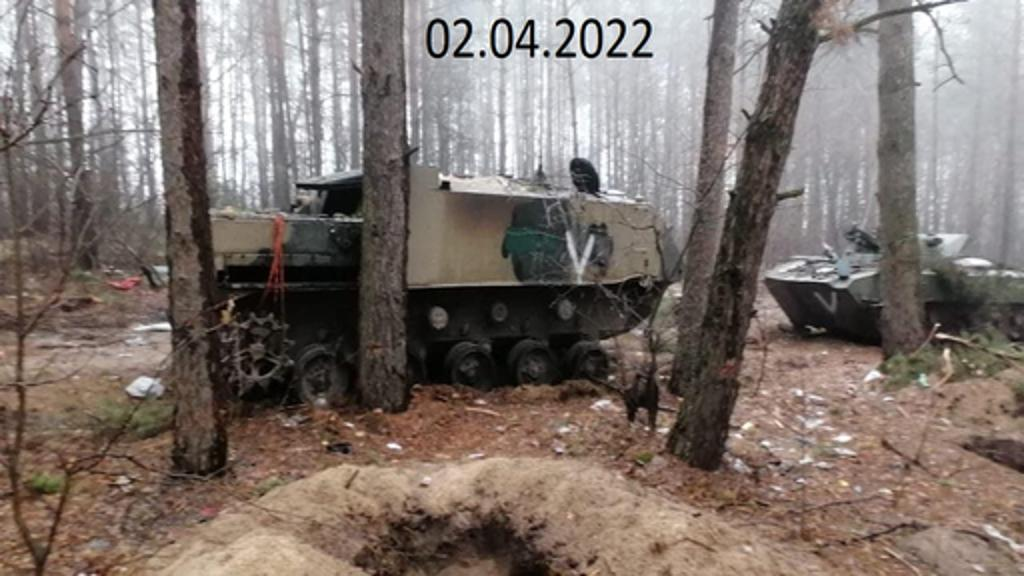APC-IFV: (158, 146, 680, 408), (754, 220, 1022, 344)
